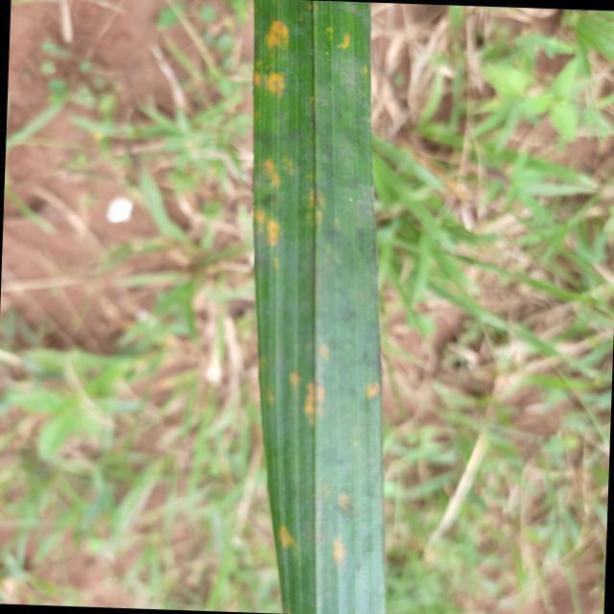Kalium: (252, 0, 384, 614)
